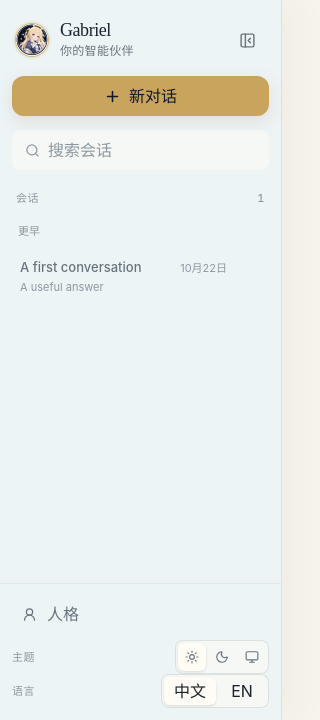
it: Sidebar › filters the loaded conversation list locally
In the field labelled "搜索会话": (152, 150) [48,138,256,162], type "absent"
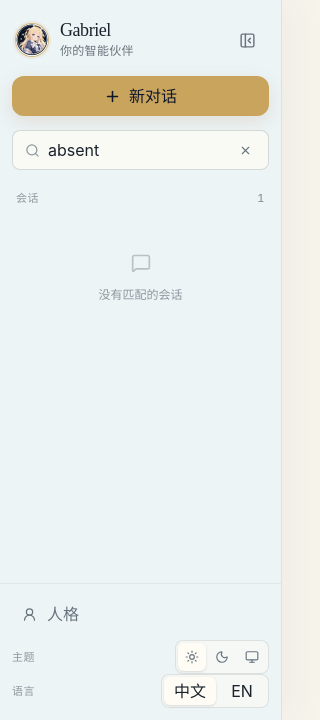
expect the text "没有匹配的会话" is shown: met, box [98,286,182,302]
